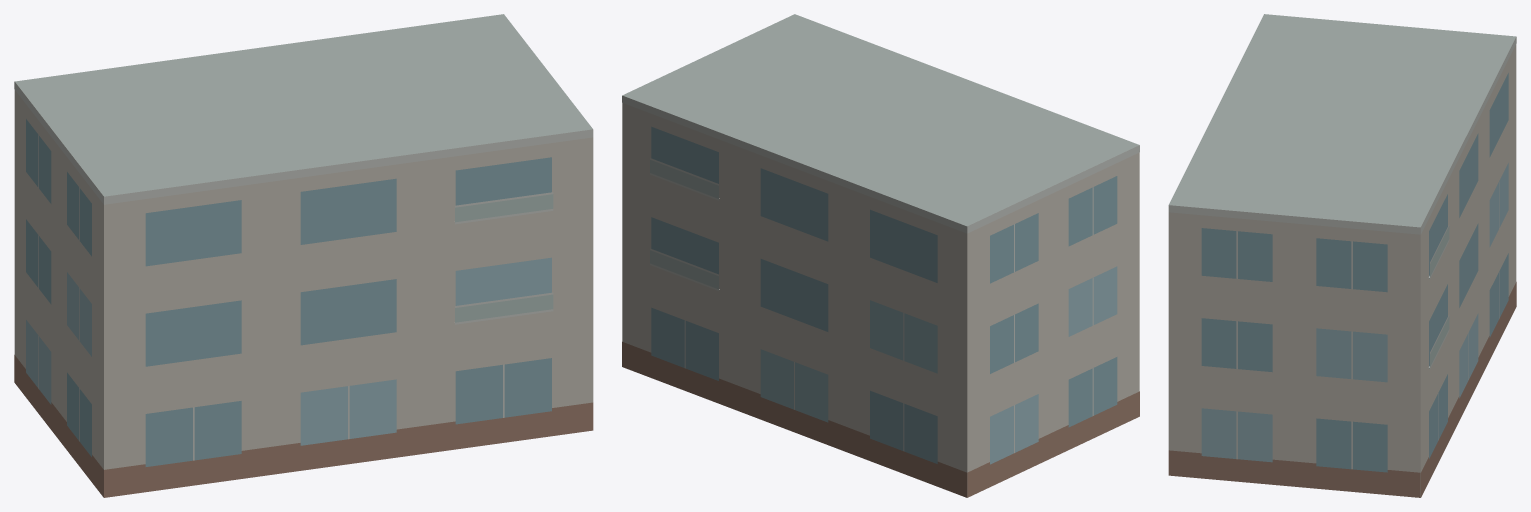
File: survey-upis-32805669.glb
The picture shows the model from 3 angles, left to right: view 1: azimuth 30°, elevation 25°; view 2: azimuth 150°, elevation 25°; view 3: azimuth 270°, elevation 25°; orthographic projection. The views are drawn at different scales.
Visible parts, largest first — view 1: survey-upis-32805669.tmp; view 2: survey-upis-32805669.tmp; view 3: survey-upis-32805669.tmp.
Part boxes in pixels (x1,y1,x2,y2): survey-upis-32805669.tmp: (14,14,593,497); survey-upis-32805669.tmp: (622,14,1139,497); survey-upis-32805669.tmp: (1168,14,1516,497).
Size of the model in its own units: 15.5 by 9.15 by 10.68.
